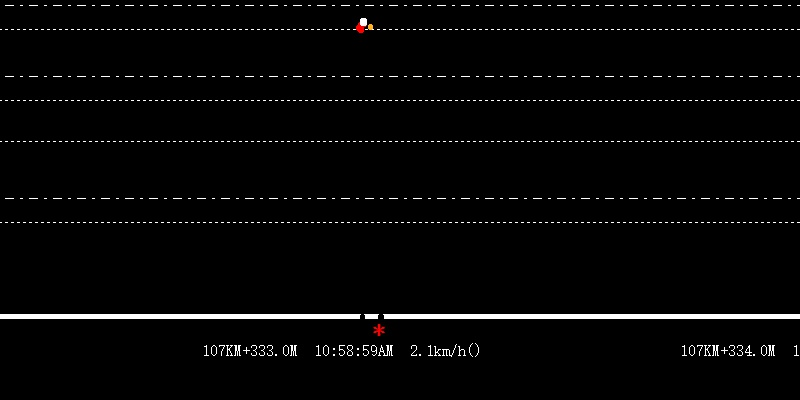face_s: (357, 16, 367, 34)
star: (373, 321, 385, 338)
